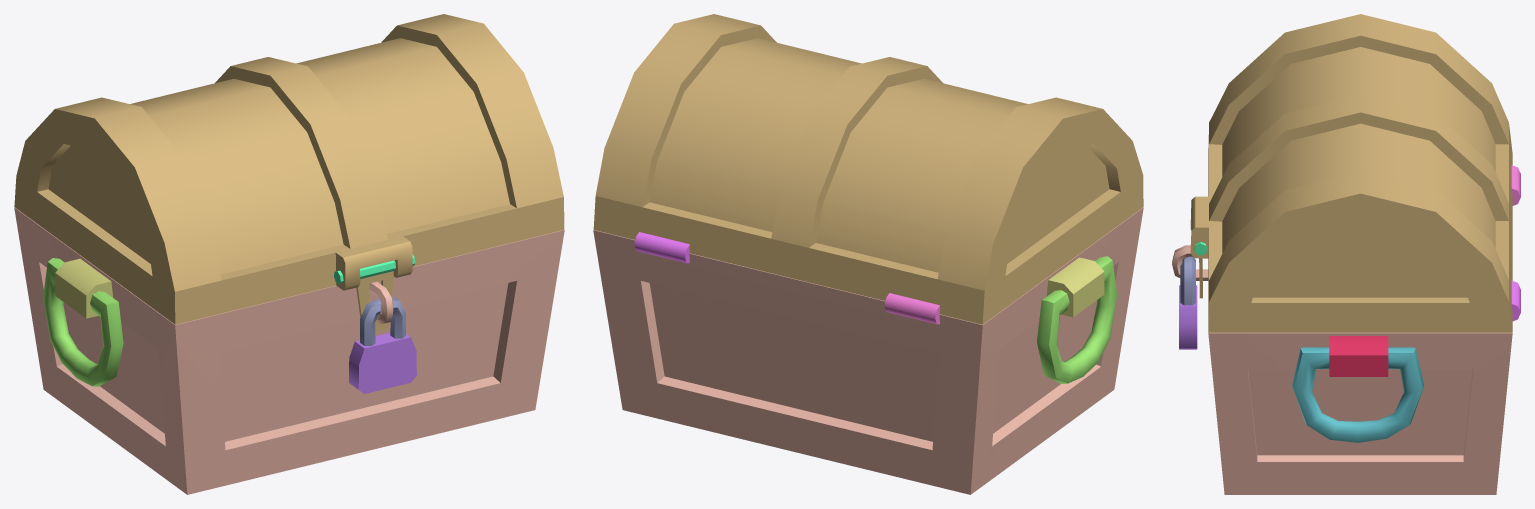
3 views of the same model, side by side, from view 1: azimuth 30°, elevation 25°; view 2: azimuth 150°, elevation 25°; view 3: azimuth 270°, elevation 25° (orthographic). The views are drawn at different scales.
Parts seen in each view (by area): view 1: split_parent_4, split_parent_7, defaultMaterial.016, defaultMaterial.010, defaultMaterial.023, defaultMaterial; view 2: split_parent_4, split_parent_7, defaultMaterial.016, defaultMaterial.023, defaultMaterial.003, defaultMaterial.006; view 3: split_parent_4, split_parent_7, defaultMaterial.001, defaultMaterial.002, defaultMaterial.010, defaultMaterial.
Part boxes in pixels (x1,y1,x2,y2): split_parent_4: (14, 14, 564, 332); split_parent_7: (14, 207, 564, 494); defaultMaterial.016: (43, 258, 123, 386); defaultMaterial.010: (349, 333, 416, 393); defaultMaterial.023: (55, 258, 112, 318); defaultMaterial: (360, 297, 405, 345); split_parent_4: (593, 14, 1143, 324); split_parent_7: (593, 207, 1143, 494); defaultMaterial.016: (1037, 256, 1117, 383); defaultMaterial.023: (1046, 257, 1104, 317); defaultMaterial.003: (634, 232, 689, 263); defaultMaterial.006: (884, 293, 939, 324); split_parent_4: (1190, 14, 1512, 332); split_parent_7: (1172, 245, 1512, 494); defaultMaterial.001: (1292, 347, 1424, 442); defaultMaterial.002: (1329, 336, 1388, 376); defaultMaterial.010: (1179, 285, 1197, 349); defaultMaterial: (1180, 256, 1195, 305).
Size of the model in its own units: 1 by 0.716 by 0.7283.
